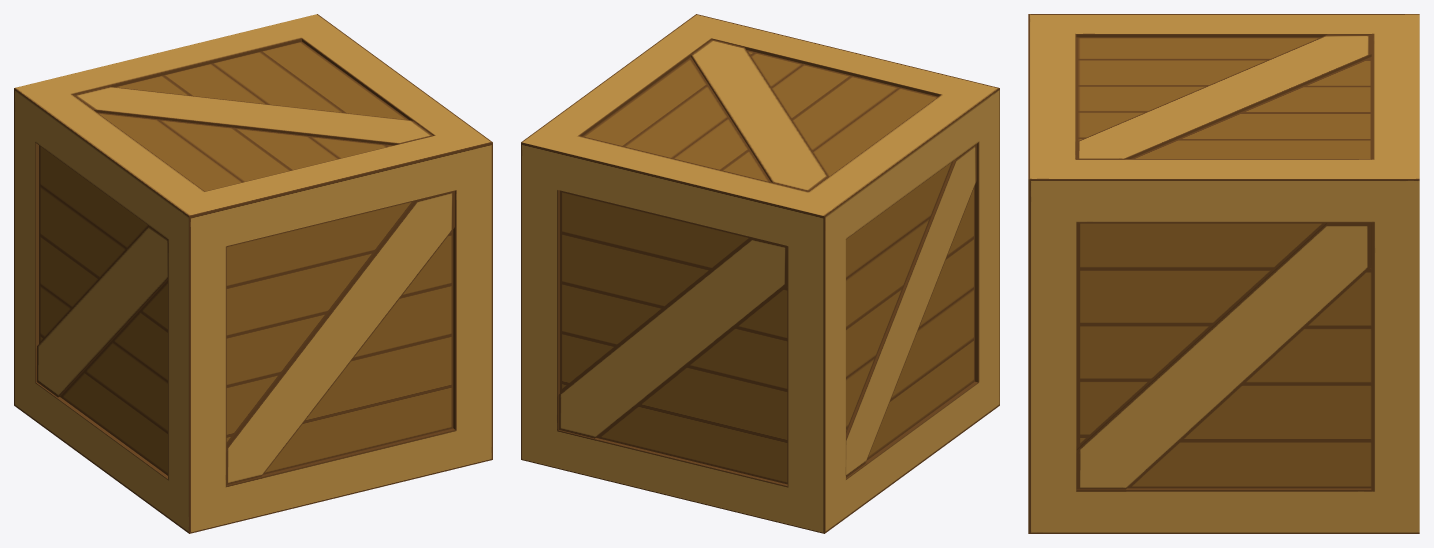
The picture shows the model from 3 angles, left to right: view 1: azimuth 30°, elevation 25°; view 2: azimuth 150°, elevation 25°; view 3: azimuth 270°, elevation 25°; orthographic projection. The views are drawn at different scales.
Visible parts, largest first — view 1: Cube.003; view 2: Cube.003; view 3: Cube.003.
Part boxes in pixels (left/top/right/bottom): Cube.003: left=14, top=14, right=492, bottom=533; Cube.003: left=521, top=14, right=999, bottom=533; Cube.003: left=1028, top=14, right=1419, bottom=533.
Bounding box in the file's own units: 194 × 194 × 194.
Materials: 1 (1 with a texture image).
